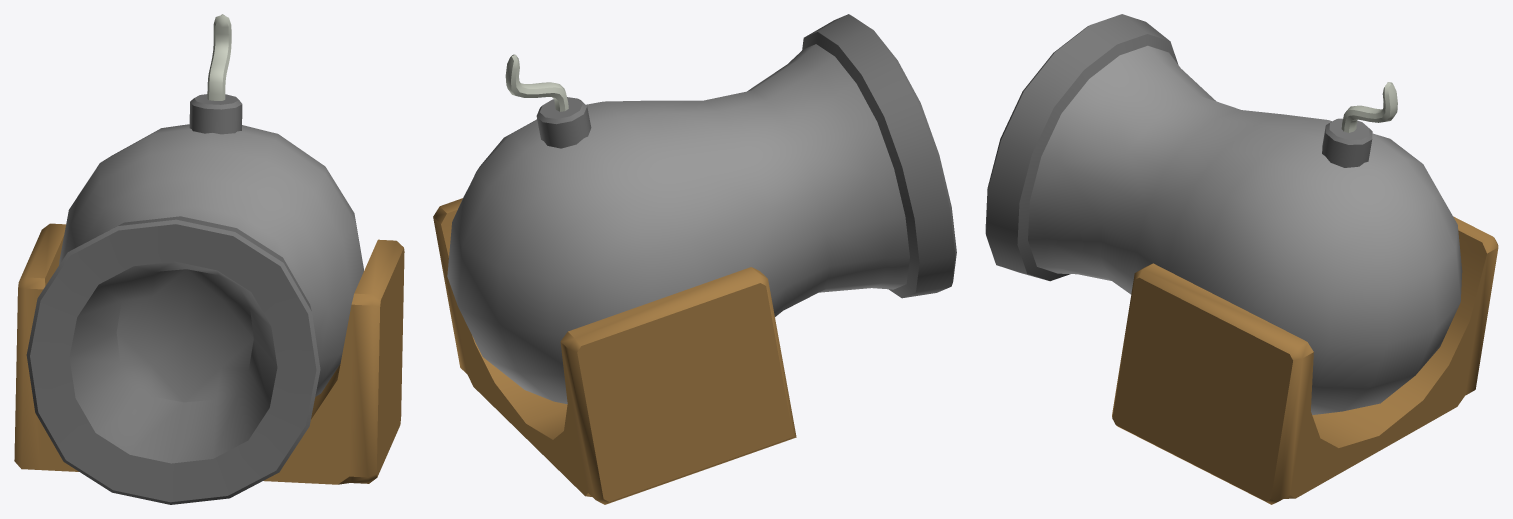
File: Cannon.fbx
The picture shows the model from 3 angles, left to right: view 1: azimuth 30°, elevation 25°; view 2: azimuth 150°, elevation 25°; view 3: azimuth 270°, elevation 25°; orthographic projection. The views are drawn at different scales.
Parts seen in each view (by area): view 1: Cannon; view 2: Cannon; view 3: Cannon.
Boxes of the visible parts, x1=… form: Cannon: x1=14, y1=14, x2=404, y2=504; Cannon: x1=433, y1=14, x2=956, y2=504; Cannon: x1=985, y1=14, x2=1498, y2=504.
Bounding box in the file's own units: 291 × 245 × 304.
